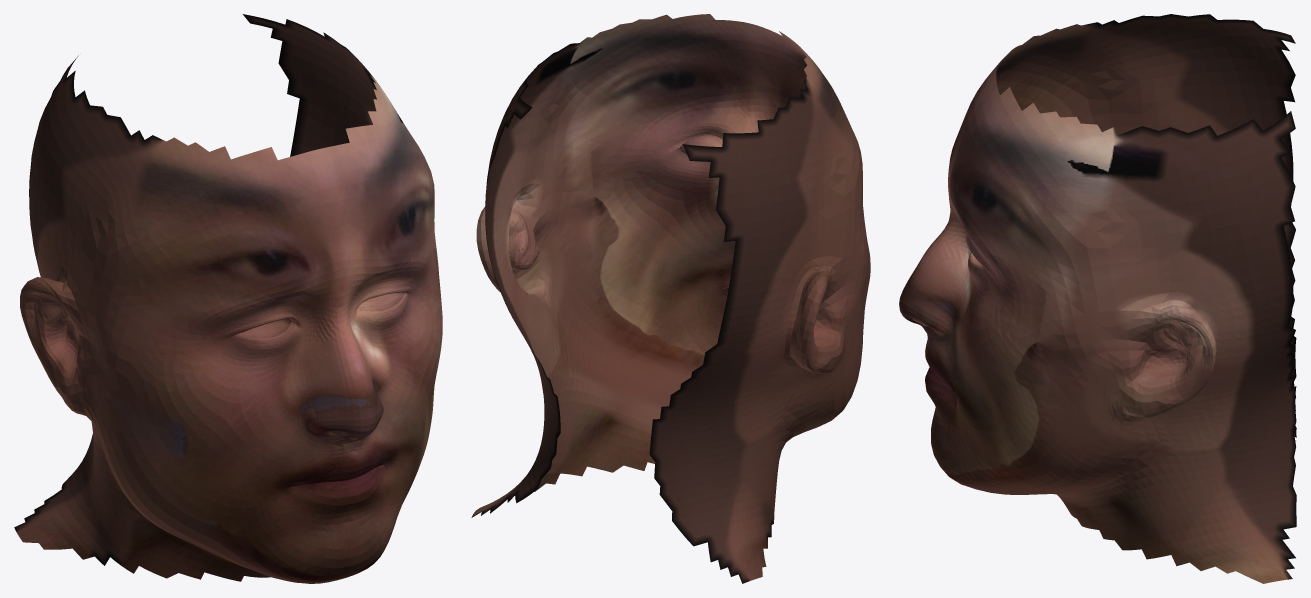
The model's file is baseline.glb.
3 views of the same model, side by side, from view 1: azimuth 30°, elevation 25°; view 2: azimuth 150°, elevation 25°; view 3: azimuth 270°, elevation 25° (orthographic). The views are drawn at different scales.
Visible parts, largest first — view 1: geometry_0; view 2: geometry_0; view 3: geometry_0.
Part boxes in pixels (bbox=[...]): geometry_0: bbox=[14, 14, 442, 583]; geometry_0: bbox=[471, 14, 870, 583]; geometry_0: bbox=[899, 14, 1296, 583].
Bounding box in the file's own units: 0.1828 × 0.2199 × 0.1789.
Materials: 1 (1 with a texture image).
